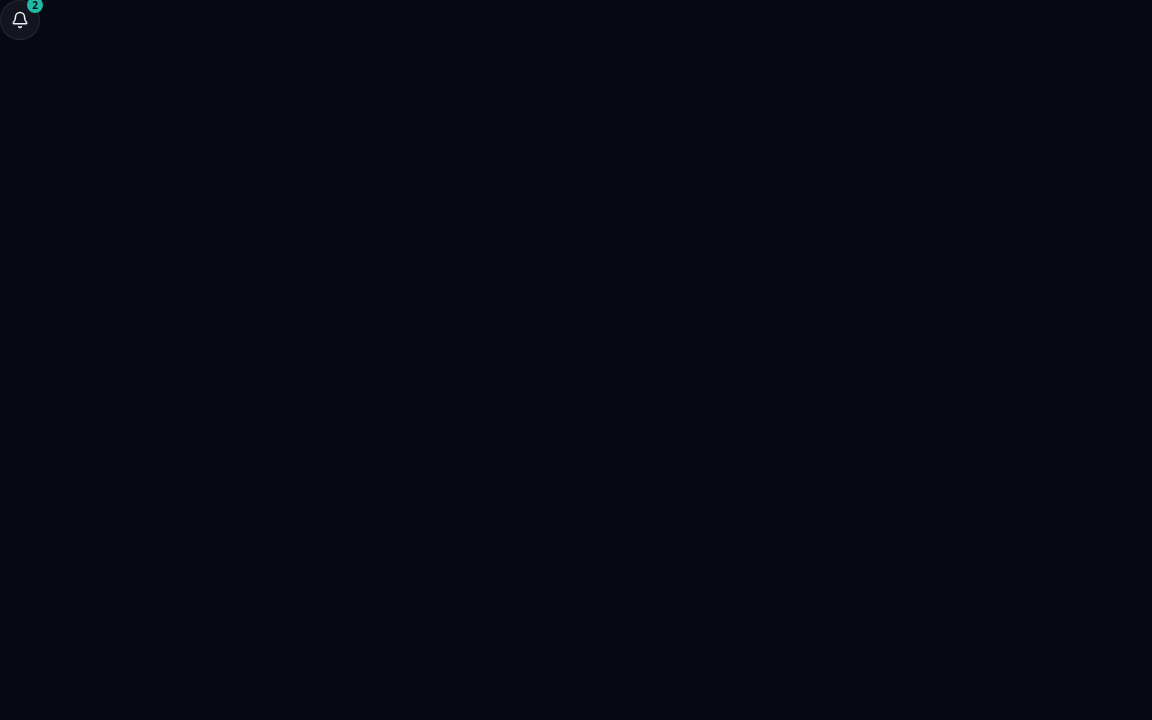
Scenario: NotificationBell (centre de notifications) › badges the unread count and lists the history grouped by day
Click the button "2" at (20, 20), box [0,0,40,40]
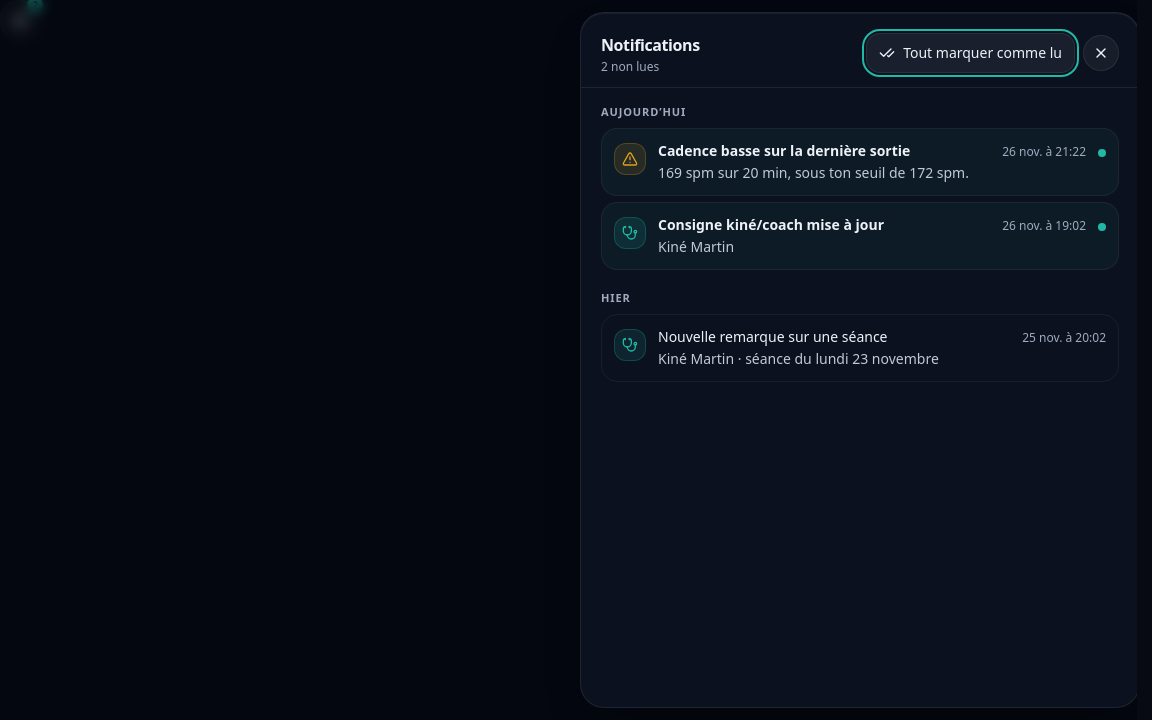
Expected: the text "Notifications" is shown, [601,33,700,57]
Expected: the text "Cadence basse sur la dernière sortie" is shown, [658,141,910,160]
Expected: the text "Consigne kiné/coach mise à jour" is shown, [658,215,884,234]
